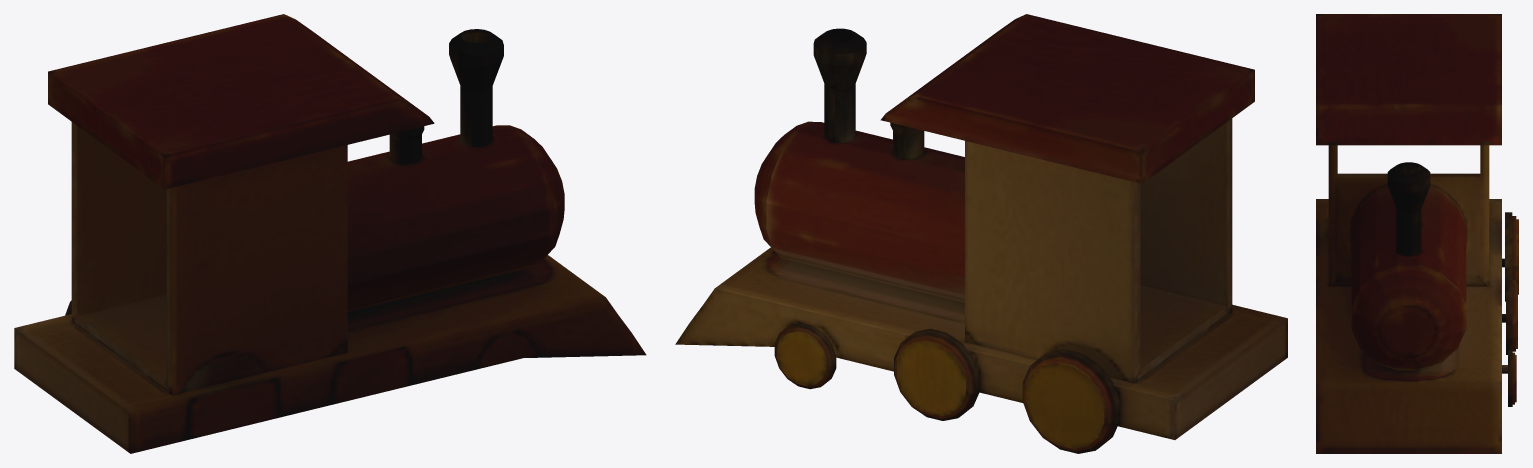
File: G2_DM_petit_train.gltf
3 views of the same model, side by side, from view 1: azimuth 30°, elevation 25°; view 2: azimuth 150°, elevation 25°; view 3: azimuth 270°, elevation 25° (orthographic). The views are drawn at different scales.
Parts seen in each view (by area): view 1: petit_train; view 2: petit_train; view 3: petit_train.
Part boxes in pixels (bbox=[...]): petit_train: bbox=[14, 14, 646, 453]; petit_train: bbox=[675, 14, 1287, 453]; petit_train: bbox=[1316, 14, 1518, 453].
Bounding box in the file's own units: 0.2115 × 0.126 × 0.0902.
